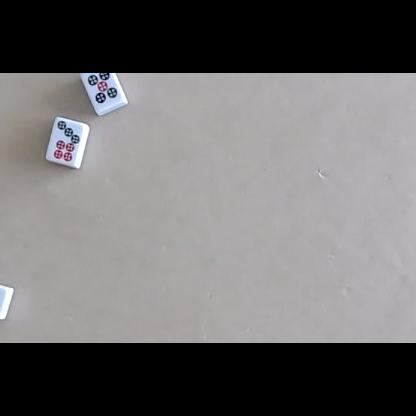5p: (87, 73, 118, 103)
7p: (53, 120, 80, 162)
